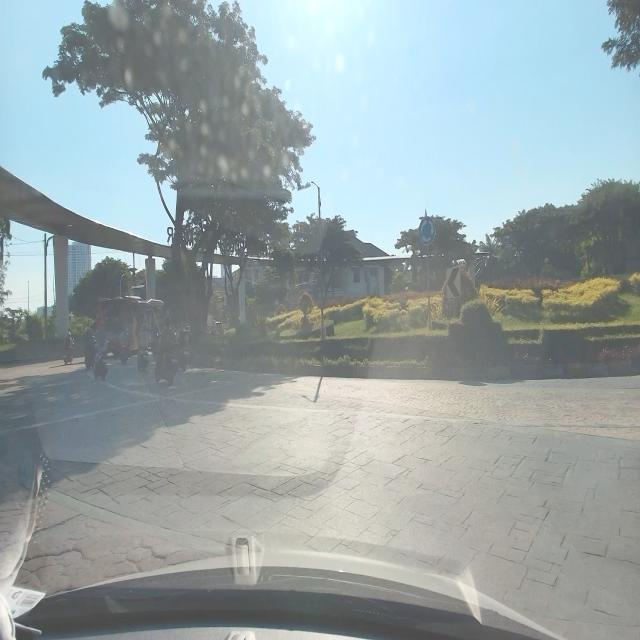bus: (95, 293, 169, 360)
